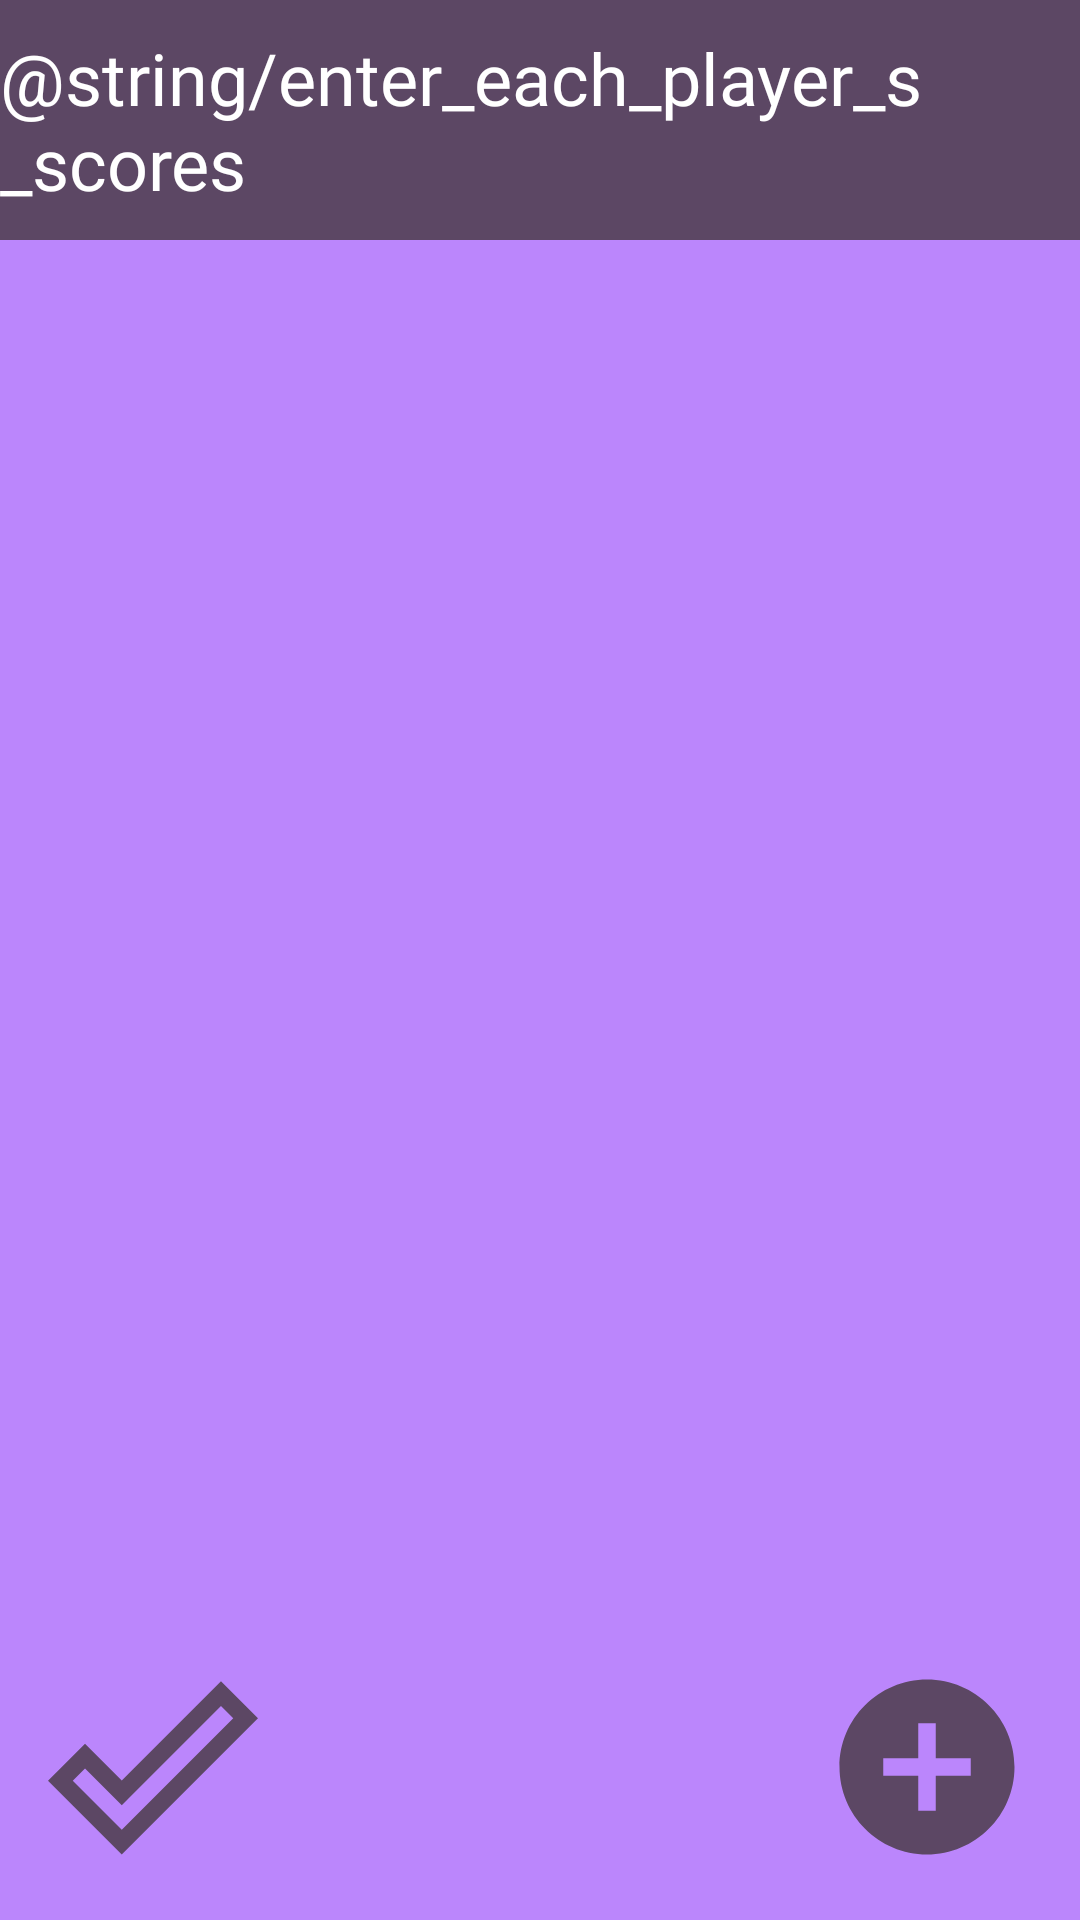

Icons on this 1080 x 1920 Android screen, each with the point to tap as [x,y]:
add: [927,1767]
done: [153,1768]
